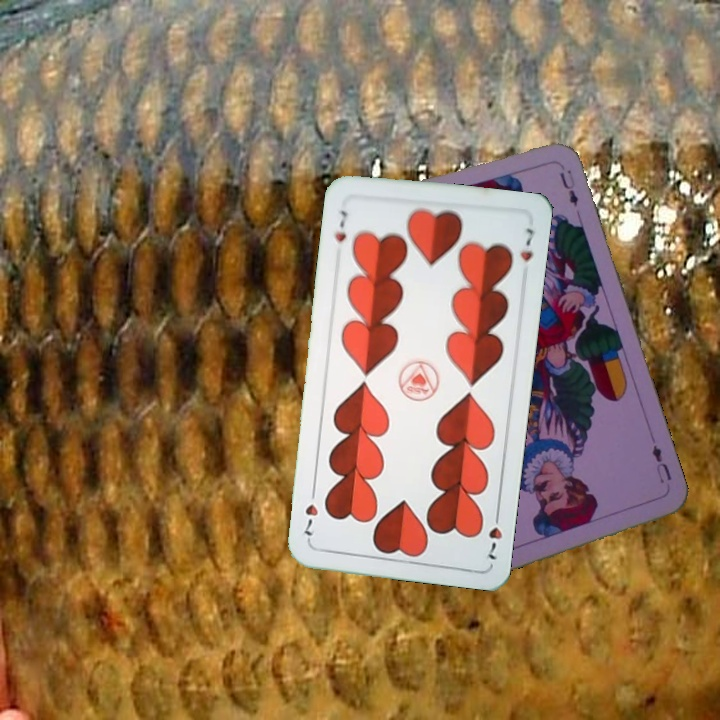EU: (647, 441, 674, 486)
H7: (484, 505, 505, 563), (330, 206, 351, 245)
